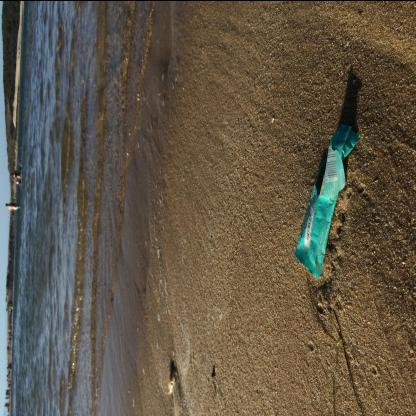plastik: (292, 124, 362, 281)
